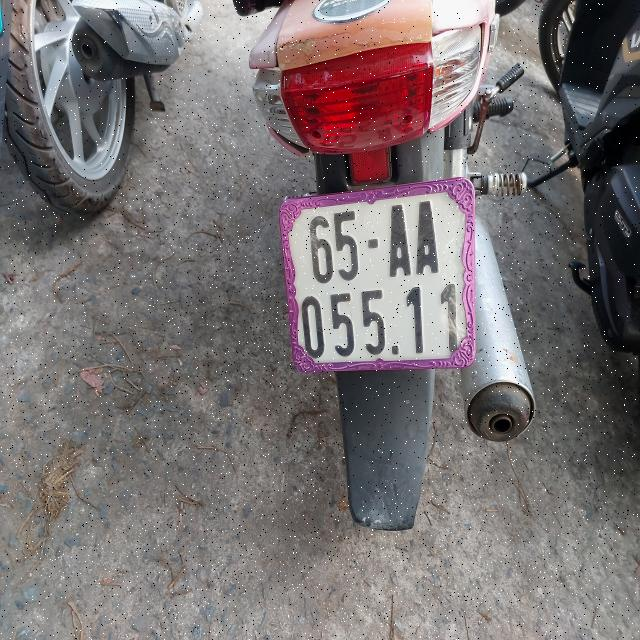0: (299, 294, 329, 362)
1: (406, 285, 426, 356), (441, 284, 459, 354)
5: (332, 210, 361, 280), (361, 290, 389, 357), (329, 288, 355, 358)
6: (307, 213, 334, 285)
A: (386, 203, 412, 279), (415, 198, 439, 276)
